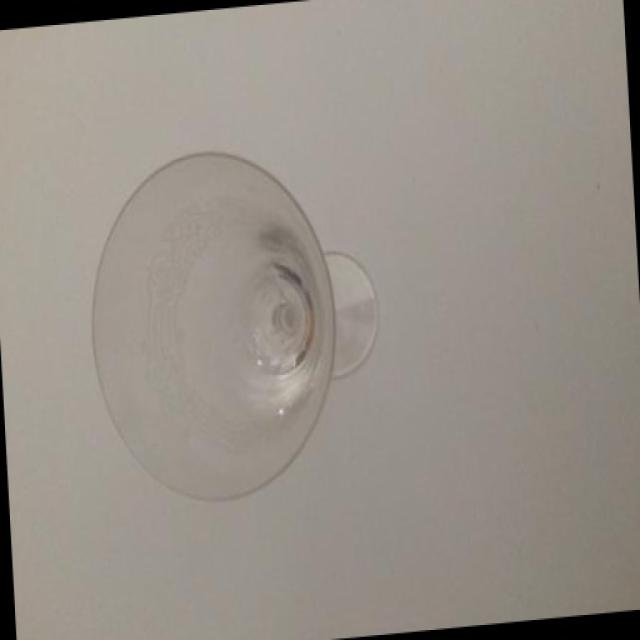vidrio: (52, 118, 474, 525)
